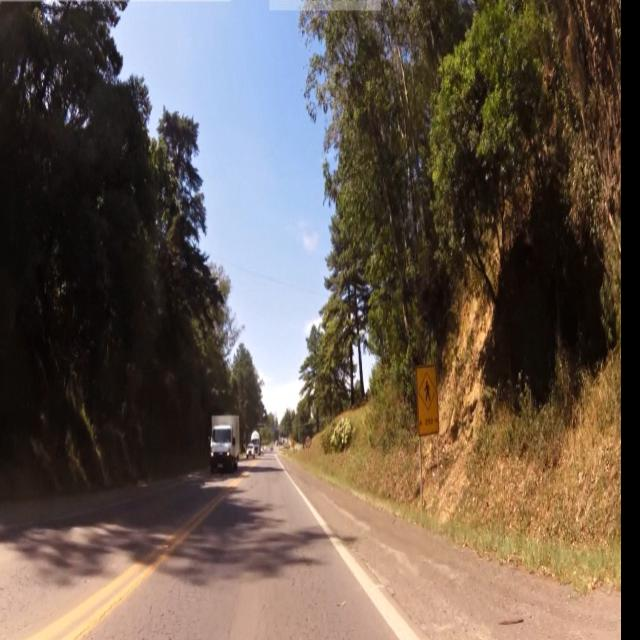A-32a: (416, 376, 436, 407)
